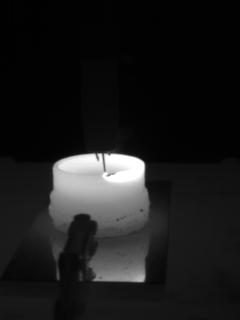tip_wire_left: (85, 146, 108, 176)
tip_wire_right: (103, 144, 119, 176)
